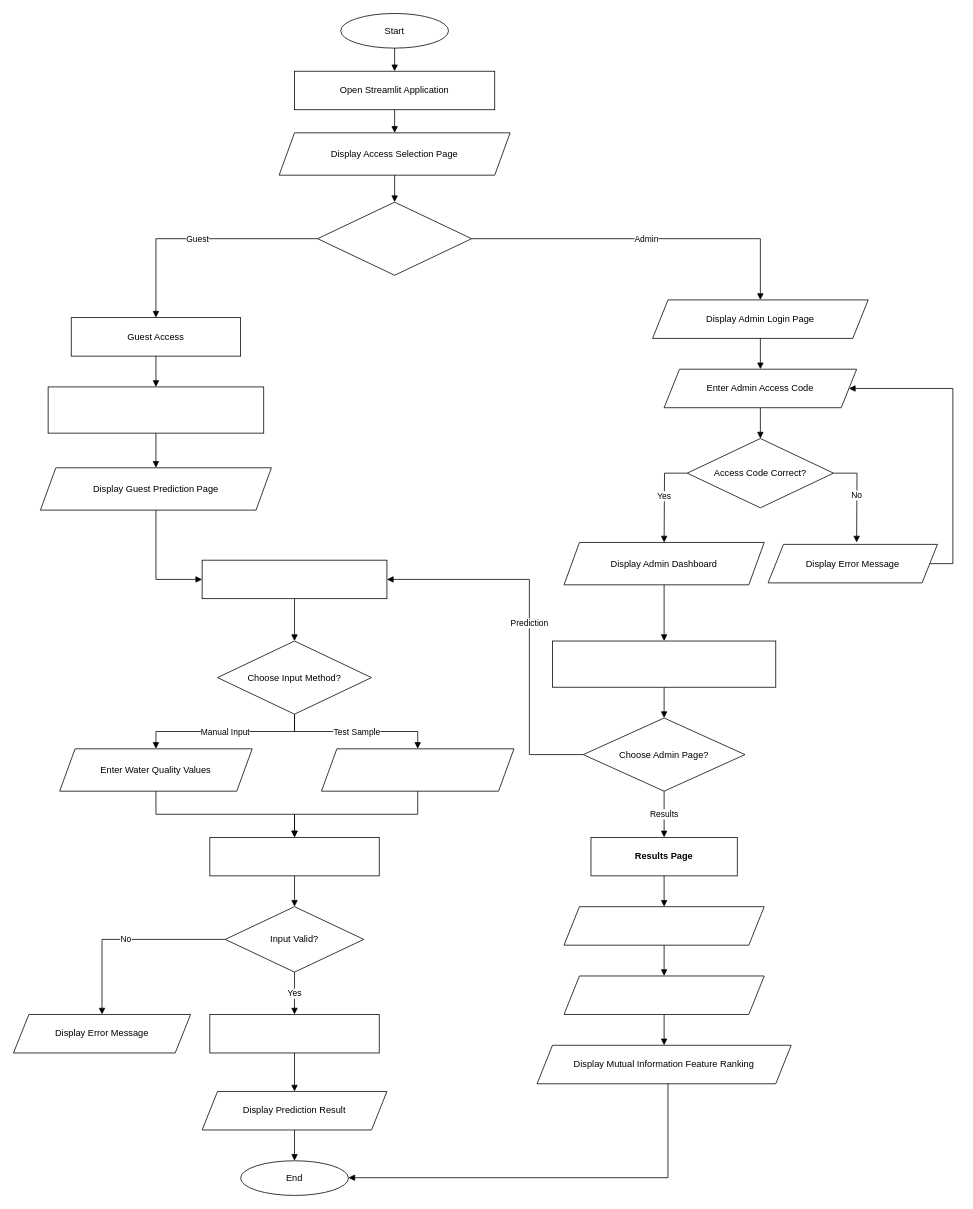
This 973x1209 diagram has some shape labels left out. The shapes that lost their labels are listed below. From the top down, each one's centre as x and y in pixels, then its label:
the point at 394,238: Choose Access Type?
the point at 155,409: Load Random Forest Model Highest Accuracy Model
the point at 294,579: Prediction Workspace
the point at 664,663: Choose Model Random Forest / Decision Tree / SVM
the point at 417,769: Select Test Sample Index
the point at 294,856: Validate Input Range
the point at 663,925: Display Performance Metrics
the point at 663,994: Display Model Comparison Chart
the point at 294,1033: Predict Safe or Unsafe
